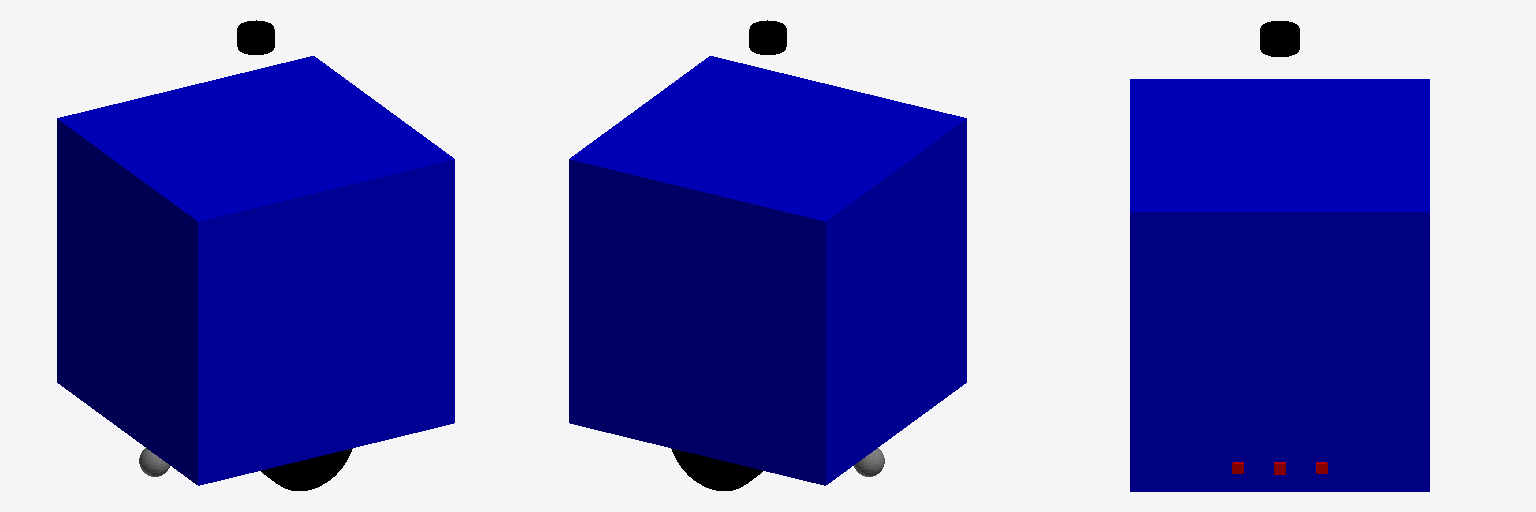
URDF robot description (verter_robot):
<?xml version="1.0"?>
<!-- URDF Model for Verter Robot - Minimal version for testing -->
<robot name="verter_robot">

  <!-- Materials -->
  <material name="blue">
    <color rgba="0.0 0.0 0.8 1.0"/>
  </material>

  <material name="black">
    <color rgba="0.0 0.0 0.0 1.0"/>
  </material>

  <material name="red">
    <color rgba="0.8 0.0 0.0 1.0"/>
  </material>

  <material name="gray">
    <color rgba="0.5 0.5 0.5 1.0"/>
  </material>

  <!-- Base Footprint (ground projection, z=0) -->
  <link name="base_footprint"/>

  <!-- Base Link (Main Body) -->
  <!-- Updated dimensions from CAD drawings: 560mm x 534mm x 550mm -->
  <link name="base_link">
    <visual>
      <origin xyz="0 0 0.275" rpy="0 0 0"/>
      <geometry>
        <box size="0.560 0.534 0.550"/>
      </geometry>
      <material name="blue"/>
    </visual>

    <collision>
      <origin xyz="0 0 0.275" rpy="0 0 0"/>
      <geometry>
        <box size="0.580 0.554 0.550"/>
      </geometry>
    </collision>

    <inertial>
      <origin xyz="0 0 0.275" rpy="0 0 0"/>
      <mass value="2.0"/>
      <inertia
        ixx="0.01" ixy="0.0" ixz="0.0"
        iyy="0.01" iyz="0.0"
        izz="0.01"/>
    </inertial>
  </link>

  <joint name="base_footprint_joint" type="fixed">
    <parent link="base_footprint"/>
    <child link="base_link"/>
    <!-- base_link на высоте радиуса колеса (0.1м) от пола -->
    <origin xyz="0 0 0.1" rpy="0 0 0"/>
  </joint>

  <!-- Left Wheel -->
  <link name="wheel_left">
    <visual>
      <origin xyz="0 0 0" rpy="1.5708 0 0"/>
      <geometry>
        <cylinder radius="0.1" length="0.05"/>
      </geometry>
      <material name="black"/>
    </visual>

    <collision>
      <origin xyz="0 0 0" rpy="1.5708 0 0"/>
      <geometry>
        <cylinder radius="0.1" length="0.05"/>
      </geometry>
    </collision>

    <inertial>
      <origin xyz="0 0 0" rpy="0 0 0"/>
      <mass value="0.5"/>
      <inertia
        ixx="0.001" ixy="0.0" ixz="0.0"
        iyy="0.001" iyz="0.0"
        izz="0.001"/>
    </inertial>
  </link>

  <joint name="wheel_left_joint" type="fixed">
    <parent link="base_link"/>
    <child link="wheel_left"/>
    <origin xyz="0 0.178 0" rpy="0 0 0"/>
  </joint>

  <!-- Right Wheel -->
  <link name="wheel_right">
    <visual>
      <origin xyz="0 0 0" rpy="1.5708 0 0"/>
      <geometry>
        <cylinder radius="0.1" length="0.05"/>
      </geometry>
      <material name="black"/>
    </visual>

    <collision>
      <origin xyz="0 0 0" rpy="1.5708 0 0"/>
      <geometry>
        <cylinder radius="0.1" length="0.05"/>
      </geometry>
    </collision>

    <inertial>
      <origin xyz="0 0 0" rpy="0 0 0"/>
      <mass value="0.5"/>
      <inertia
        ixx="0.001" ixy="0.0" ixz="0.0"
        iyy="0.001" iyz="0.0"
        izz="0.001"/>
    </inertial>
  </link>

  <joint name="wheel_right_joint" type="fixed">
    <parent link="base_link"/>
    <child link="wheel_right"/>
    <origin xyz="0 -0.178 0" rpy="0 0 0"/>
  </joint>

  <!-- Caster Wheel (Back) -->
  <link name="caster_back">
    <visual>
      <origin xyz="0 0 0" rpy="0 0 0"/>
      <geometry>
        <sphere radius="0.03"/>
      </geometry>
      <material name="gray"/>
    </visual>

    <collision>
      <origin xyz="0 0 0" rpy="0 0 0"/>
      <geometry>
        <sphere radius="0.03"/>
      </geometry>
    </collision>

    <inertial>
      <origin xyz="0 0 0" rpy="0 0 0"/>
      <mass value="0.1"/>
      <inertia
        ixx="0.0001" ixy="0.0" ixz="0.0"
        iyy="0.0001" iyz="0.0"
        izz="0.0001"/>
    </inertial>
  </link>

  <joint name="caster_back_joint" type="fixed">
    <parent link="base_link"/>
    <child link="caster_back"/>
    <origin xyz="-0.22 0 -0.07" rpy="0 0 0"/>
  </joint>

  <!-- Distance Sensors (7 sensors) -->
  <!-- Updated positions based on CAD drawings -->
  <!-- Sensors at height 148mm from ground = 0.048m from base_link -->

  <!-- 1. Front Center (0°) -->
  <link name="sensor_front_center">
    <visual>
      <origin xyz="0 0 0" rpy="0 0 0"/>
      <geometry>
        <box size="0.02 0.02 0.02"/>
      </geometry>
      <material name="red"/>
    </visual>
  </link>

  <joint name="sensor_front_center_joint" type="fixed">
    <parent link="base_link"/>
    <child link="sensor_front_center"/>
    <origin xyz="0.280 0 0.048" rpy="0 0 0"/>
  </joint>

  <!-- 2. Front Left Inner (5,7°) -->
  <link name="sensor_front_left_inner">
    <visual>
      <origin xyz="0 0 0" rpy="0 0 0"/>
      <geometry>
        <box size="0.02 0.02 0.02"/>
      </geometry>
      <material name="red"/>
    </visual>
  </link>

  <joint name="sensor_front_left_inner_joint" type="fixed">
    <parent link="base_link"/>
    <child link="sensor_front_left_inner"/>
    <origin xyz="0.277 0.074 0.048" rpy="0 0 0.0995"/>
  </joint>

  <!-- 3. Front Left Outer (13,2°) -->
  <link name="sensor_front_left_outer">
    <visual>
      <origin xyz="0 0 0" rpy="0 0 0"/>
      <geometry>
        <box size="0.02 0.02 0.02"/>
      </geometry>
      <material name="red"/>
    </visual>
  </link>

  <joint name="sensor_front_left_outer_joint" type="fixed">
    <parent link="base_link"/>
    <child link="sensor_front_left_outer"/>
    <origin xyz="0.262 0.152 0.048" rpy="0 0 0.2304"/>
  </joint>

  <!-- 4. Front Right Inner (-5,7°) -->
  <link name="sensor_front_right_inner">
    <visual>
      <origin xyz="0 0 0" rpy="0 0 0"/>
      <geometry>
        <box size="0.02 0.02 0.02"/>
      </geometry>
      <material name="red"/>
    </visual>
  </link>

  <joint name="sensor_front_right_inner_joint" type="fixed">
    <parent link="base_link"/>
    <child link="sensor_front_right_inner"/>
    <origin xyz="0.277 -0.074 0.048" rpy="0 0 -0.0995"/>
  </joint>

  <!-- 5. Front Right Outer (-13,2°) -->
  <link name="sensor_front_right_outer">
    <visual>
      <origin xyz="0 0 0" rpy="0 0 0"/>
      <geometry>
        <box size="0.02 0.02 0.02"/>
      </geometry>
      <material name="red"/>
    </visual>
  </link>

  <joint name="sensor_front_right_outer_joint" type="fixed">
    <parent link="base_link"/>
    <child link="sensor_front_right_outer"/>
    <origin xyz="0.262 -0.152 0.048" rpy="0 0 -0.2304"/>
  </joint>

  <!-- 6. Left Sensor (76) -->
  <link name="sensor_left">
    <visual>
      <origin xyz="0 0 0" rpy="0 0 0"/>
      <geometry>
        <box size="0.02 0.02 0.02"/>
      </geometry>
      <material name="red"/>
    </visual>
  </link>

  <joint name="sensor_left_joint" type="fixed">
    <parent link="base_link"/>
    <child link="sensor_left"/>
    <origin xyz="0.180 0.228 0.048" rpy="0 0 1.3265"/>
  </joint>

  <!-- 7. Right Sensor (-76 °) -->
  <link name="sensor_right">
    <visual>
      <origin xyz="0 0 0" rpy="0 0 0"/>
      <geometry>
        <box size="0.02 0.02 0.02"/>
      </geometry>
      <material name="red"/>
    </visual>
  </link>

  <joint name="sensor_right_joint" type="fixed">
    <parent link="base_link"/>
    <child link="sensor_right"/>
    <origin xyz="0.180 -0.228 0.048" rpy="0 0 -1.3265"/>
  </joint>
  <!-- ToF Camera (Arducam US981) -->
  <!-- Positioned at front-center, slightly above base_link -->
  <link name="camera_tof">
    <visual>
      <origin xyz="0 0 0" rpy="0 0 0"/>
      <geometry>
        <box size="0.03 0.06 0.02"/>
      </geometry>
      <material name="gray"/>
    </visual>
  </link>

  <joint name="camera_tof_joint" type="fixed">
    <parent link="base_link"/>
    <child link="camera_tof"/>
    <!-- Position: front-center, height ~15cm from ground -->
    <origin xyz="0.150 0 0.400" rpy="0 0 0"/>
  </joint>

  <!-- ToF Camera Optical Frame (for point cloud data) -->
  <link name="camera_tof_optical"/>

  <joint name="camera_tof_optical_joint" type="fixed">
    <parent link="camera_tof"/>
    <child link="camera_tof_optical"/>
    <!-- Optical frame: Z forward, X right, Y down (standard camera convention) -->
    <origin xyz="0 0 0" rpy="-1.5708 0 -1.5708"/>
  </joint>

  <!-- RPLiDAR A1M8 -->
  <!-- Positioned at top-center of robot -->
  <link name="lidar_link">
    <visual>
      <origin xyz="0 0 0" rpy="0 0 0"/>
      <geometry>
        <cylinder radius="0.035" length="0.04"/>
      </geometry>
      <material name="black"/>
    </visual>
  </link>

  <joint name="lidar_joint" type="fixed">
    <parent link="base_link"/>
    <child link="lidar_link"/>
    <!-- Position: 120mm forward from center, 760mm above base_link (860mm from ground) -->
    <!-- Лидар развёрнут на 180° вокруг Z (физическая ориентация) -->
    <origin xyz="0 0 0.76" rpy="0 0 3.14159"/>
  </joint>

  <!-- IMU (Trema BMX055 9 DOF) -->
  <link name="imu_link">
    <visual>
      <origin xyz="0 0 0" rpy="0 0 0"/>
      <geometry>
        <box size="0.03 0.03 0.01"/>
      </geometry>
      <material name="red"/>
    </visual>
  </link>

  <joint name="imu_joint" type="fixed">
    <parent link="base_link"/>
    <child link="imu_link"/>
    <!-- #Центр робота, 39см от пола = 29см от base_link, смещён вперёд на 90мм -->
    <!-- Центр робота, 40.5см от пола = 29см от base_link, смещён вперёд на 0 мм -->
    <origin xyz="0 0 0.305" rpy="0 0 0"/>
  </joint>

  <!--
  TF tree for SLAM:
    map (slam_toolbox)
    └── odom (slam_toolbox)
        └── base_footprint (odometry_node)
            └── base_link (robot_state_publisher)
                ├── lidar_link (robot_state_publisher)
                └── imu_link (robot_state_publisher)
  -->

</robot>

--- Render facts (derived) ---
3 views of the same robot in one strip: view 1: azimuth 30°, elevation 25°; view 2: azimuth 150°, elevation 25°; view 3: azimuth 270°, elevation 25° (orthographic).
Robot: verter_robot — 16 links, 15 joints (15 fixed); root link base_footprint; default pose: all joints at 0.
Visible links, largest first — view 1: base_link, wheel_right, lidar_link, caster_back; view 2: base_link, wheel_left, lidar_link, caster_back; view 3: base_link, lidar_link.
Link boxes in pixels (<box>): base_link: <box>57,56,454,485</box>; wheel_right: <box>261,448,352,490</box>; lidar_link: <box>237,20,274,54</box>; caster_back: <box>139,448,169,476</box>; base_link: <box>569,56,966,485</box>; wheel_left: <box>671,448,762,490</box>; lidar_link: <box>749,20,786,54</box>; caster_back: <box>854,448,884,476</box>; base_link: <box>1130,79,1429,491</box>; lidar_link: <box>1260,21,1299,56</box>.
Bounding box of the posed robot: 0.57 × 0.534 × 0.88 m (x, y, z).
Geometry: primitives only (box / cylinder / sphere), no mesh files.
